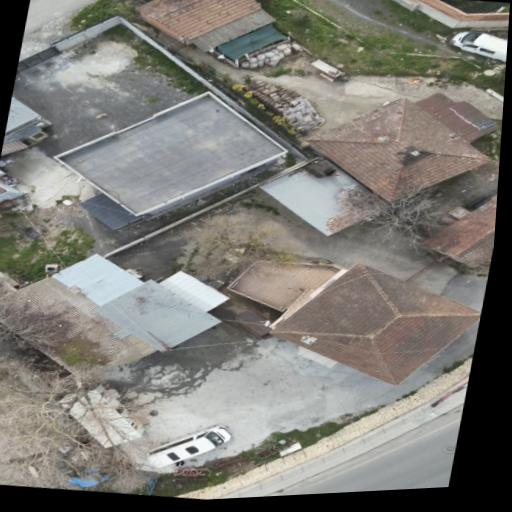car: (147, 425, 231, 467), (450, 32, 506, 62)
